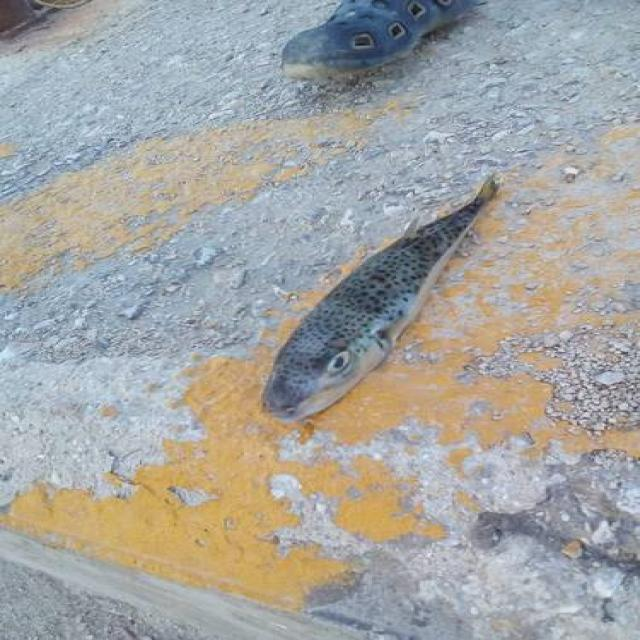Balik: (263, 177, 498, 421)
